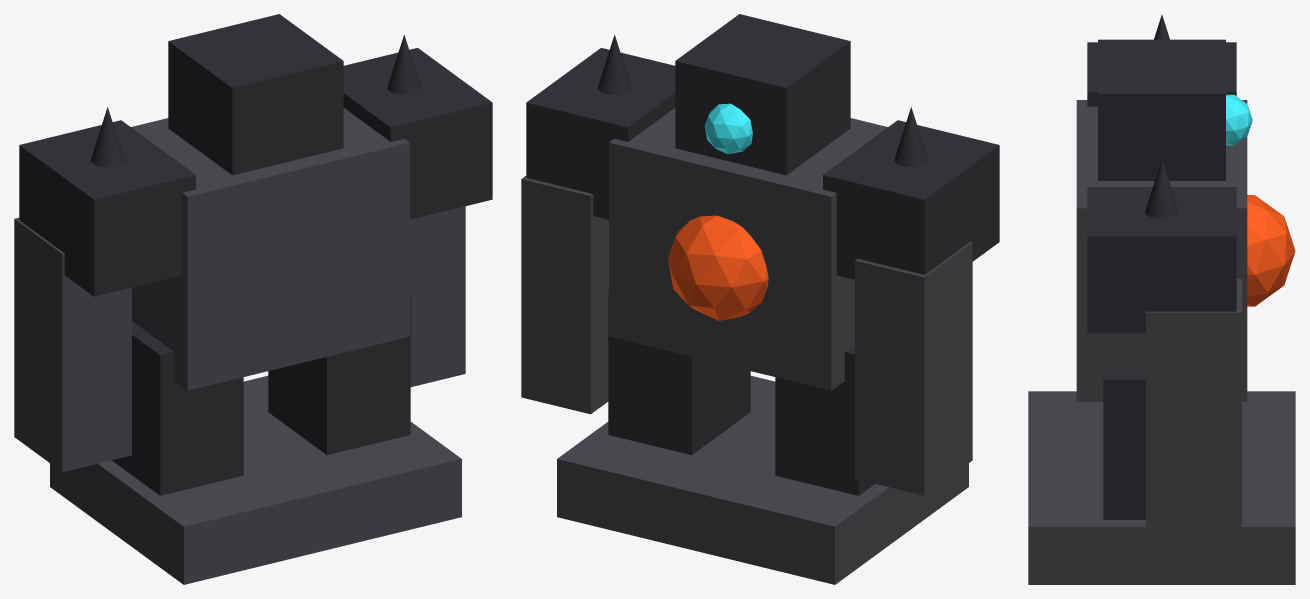
Rendered from guardian_statue_golem.obj.
The picture shows the model from 3 angles, left to right: view 1: azimuth 30°, elevation 25°; view 2: azimuth 150°, elevation 25°; view 3: azimuth 270°, elevation 25°; orthographic projection.
Visible parts, largest first — view 1: Cube.003, Cube, Cube.006, Cube.008, Cube.004, Cube.005, Cube.001, Cube.002, Cube.007, Cone.001, Cone; view 2: Cube.003, Cube, Cube.006, Cube.008, Cube.004, Cube.007, Cube.005, Cube.002, Cube.001, Icosphere, Icosphere.001, Cone.001 (+1 smaller); view 3: Cube, Cube.007, Cube.005, Cube.008, Cube.003, Cube.002, Icosphere, Cube.004, Cone.001, Icosphere.001.
Part boxes in pixels (x1,y1,x2,y2): Cube.003: (131,108,409,390); Cube: (50,375,461,584); Cube.006: (14,217,131,472); Cube.008: (168,14,343,175); Cube.004: (19,120,195,296); Cube.005: (343,48,492,219); Cube.001: (112,321,243,495); Cube.002: (268,294,410,455); Cube.007: (410,206,465,386); Cone.001: (387,35,420,94); Cone: (91,107,124,166); Cube.003: (609,108,887,390); Cube: (557,375,968,584); Cube.006: (855,242,972,495); Cube.008: (675,14,850,175); Cube.004: (823,120,999,279); Cube.007: (521,176,608,414); Cube.005: (526,48,675,219); Cube.002: (608,294,750,455); Cube.001: (775,345,874,495); Icosphere: (668,215,768,320); Icosphere.001: (704,103,752,154); Cone.001: (598,35,631,94); Cube: (1028,391,1295,584); Cube.007: (1146,279,1241,530); Cube.005: (1087,187,1236,333); Cube.008: (1098,39,1225,180); Cube.003: (1076,100,1247,401); Cube.002: (1103,373,1145,519); Icosphere: (1247,195,1295,306); Cube.004: (1087,42,1236,106); Cone.001: (1145,159,1178,218); Icosphere.001: (1226,94,1252,145).
Size of the model in its own units: 8.7 by 9.3 by 5.
